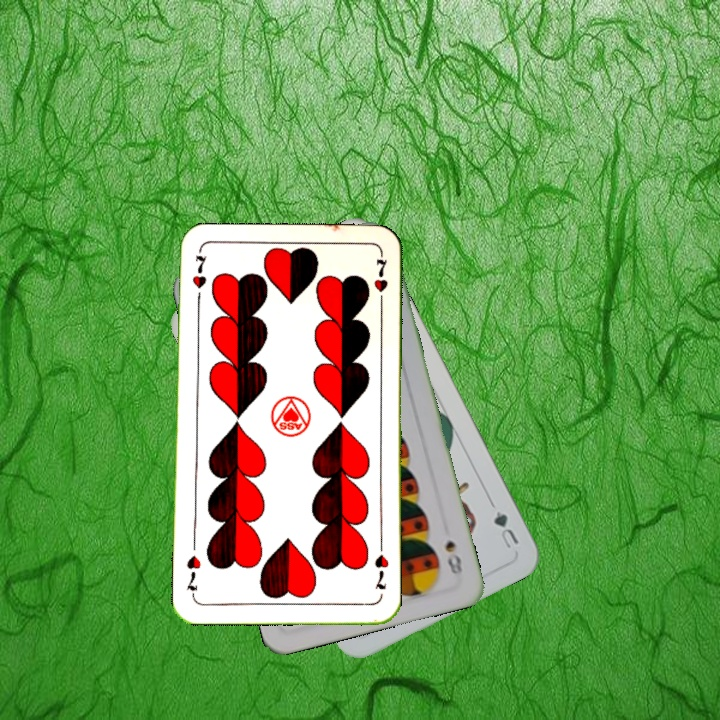GU: (486, 498, 522, 552)
H7: (188, 249, 208, 308), (370, 540, 391, 593)
S8: (441, 536, 465, 577)
